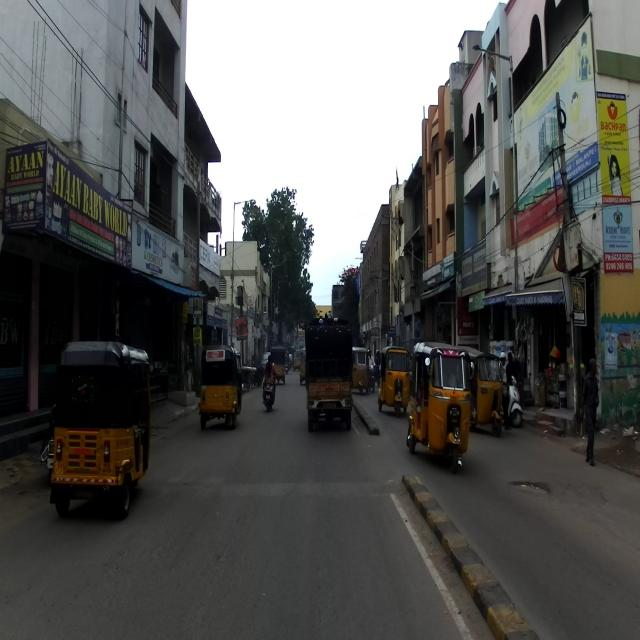autorickshaw: (46, 338, 155, 521), (406, 341, 475, 474)
truck: (302, 312, 353, 431)
